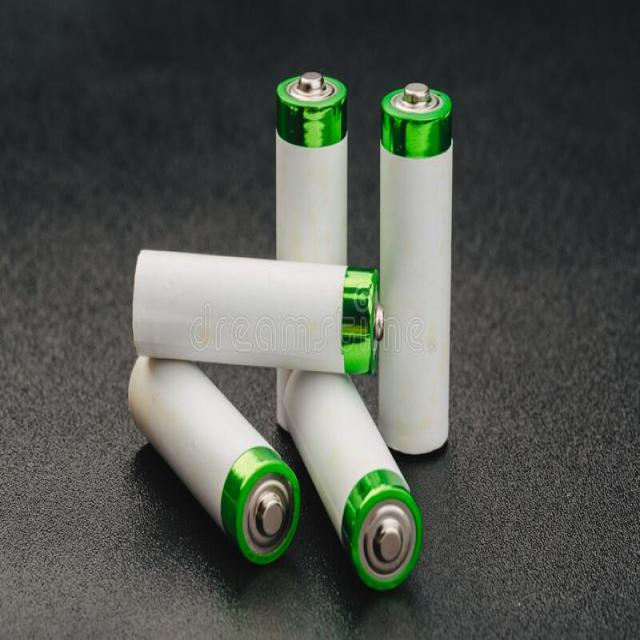Hazard: (122, 59, 457, 594)
